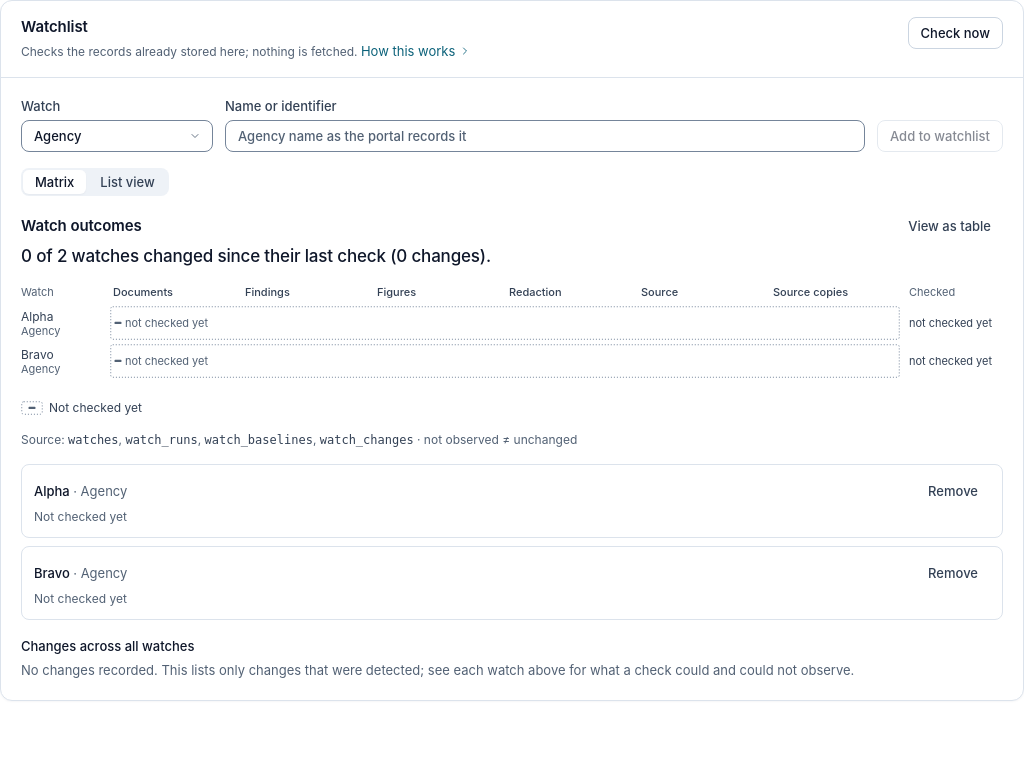
Scenario: watchlist change detection › discards a change list that arrives after another watch was selected
Click the button "Alpha · Agency" at (81, 491), box left=34, top=481, right=127, bottom=501
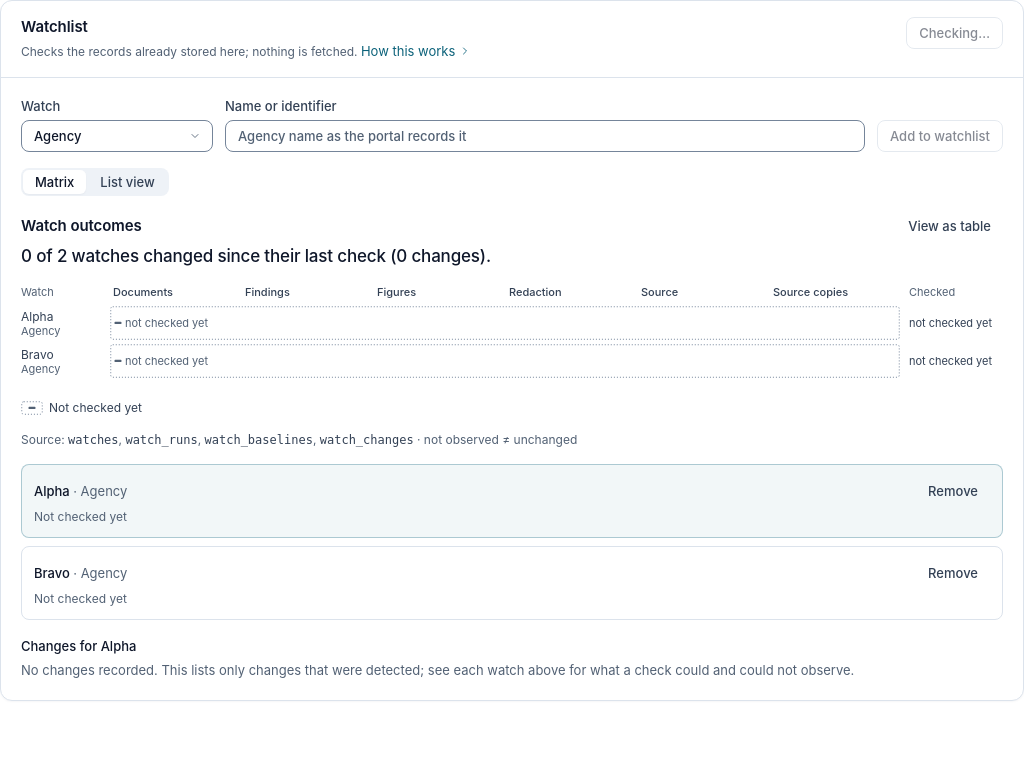
Click the button "Bravo · Agency" at (81, 573), box left=34, top=563, right=127, bottom=583
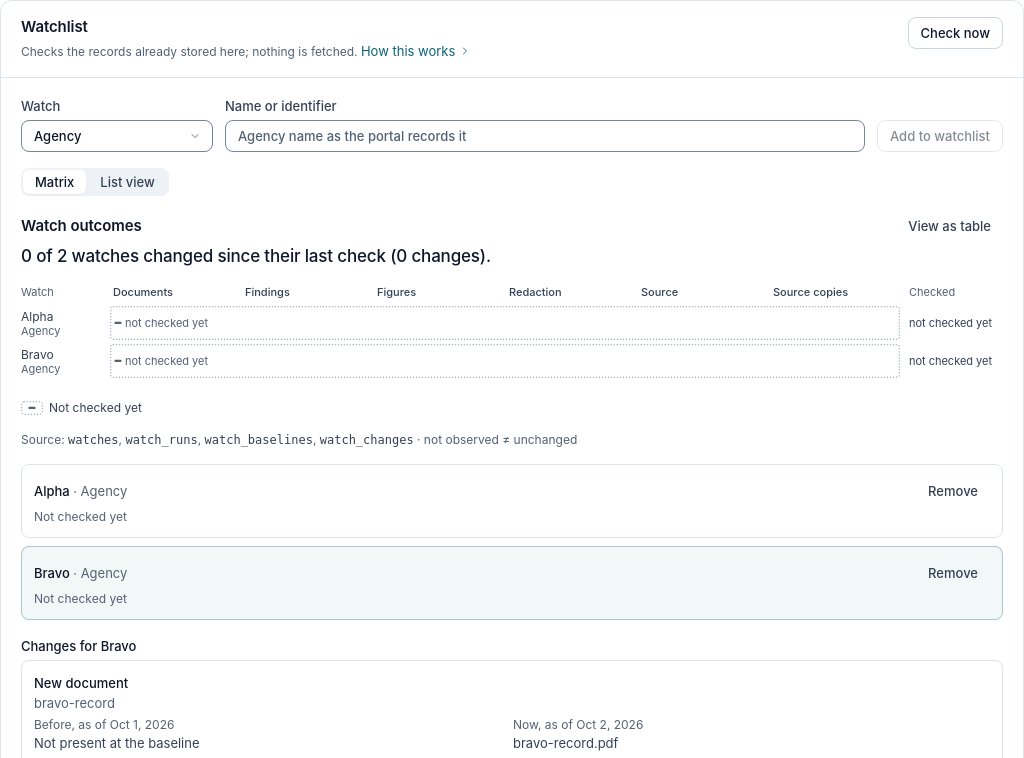
expect the text "bravo-record" is shown: met, box left=34, top=695, right=115, bottom=711
